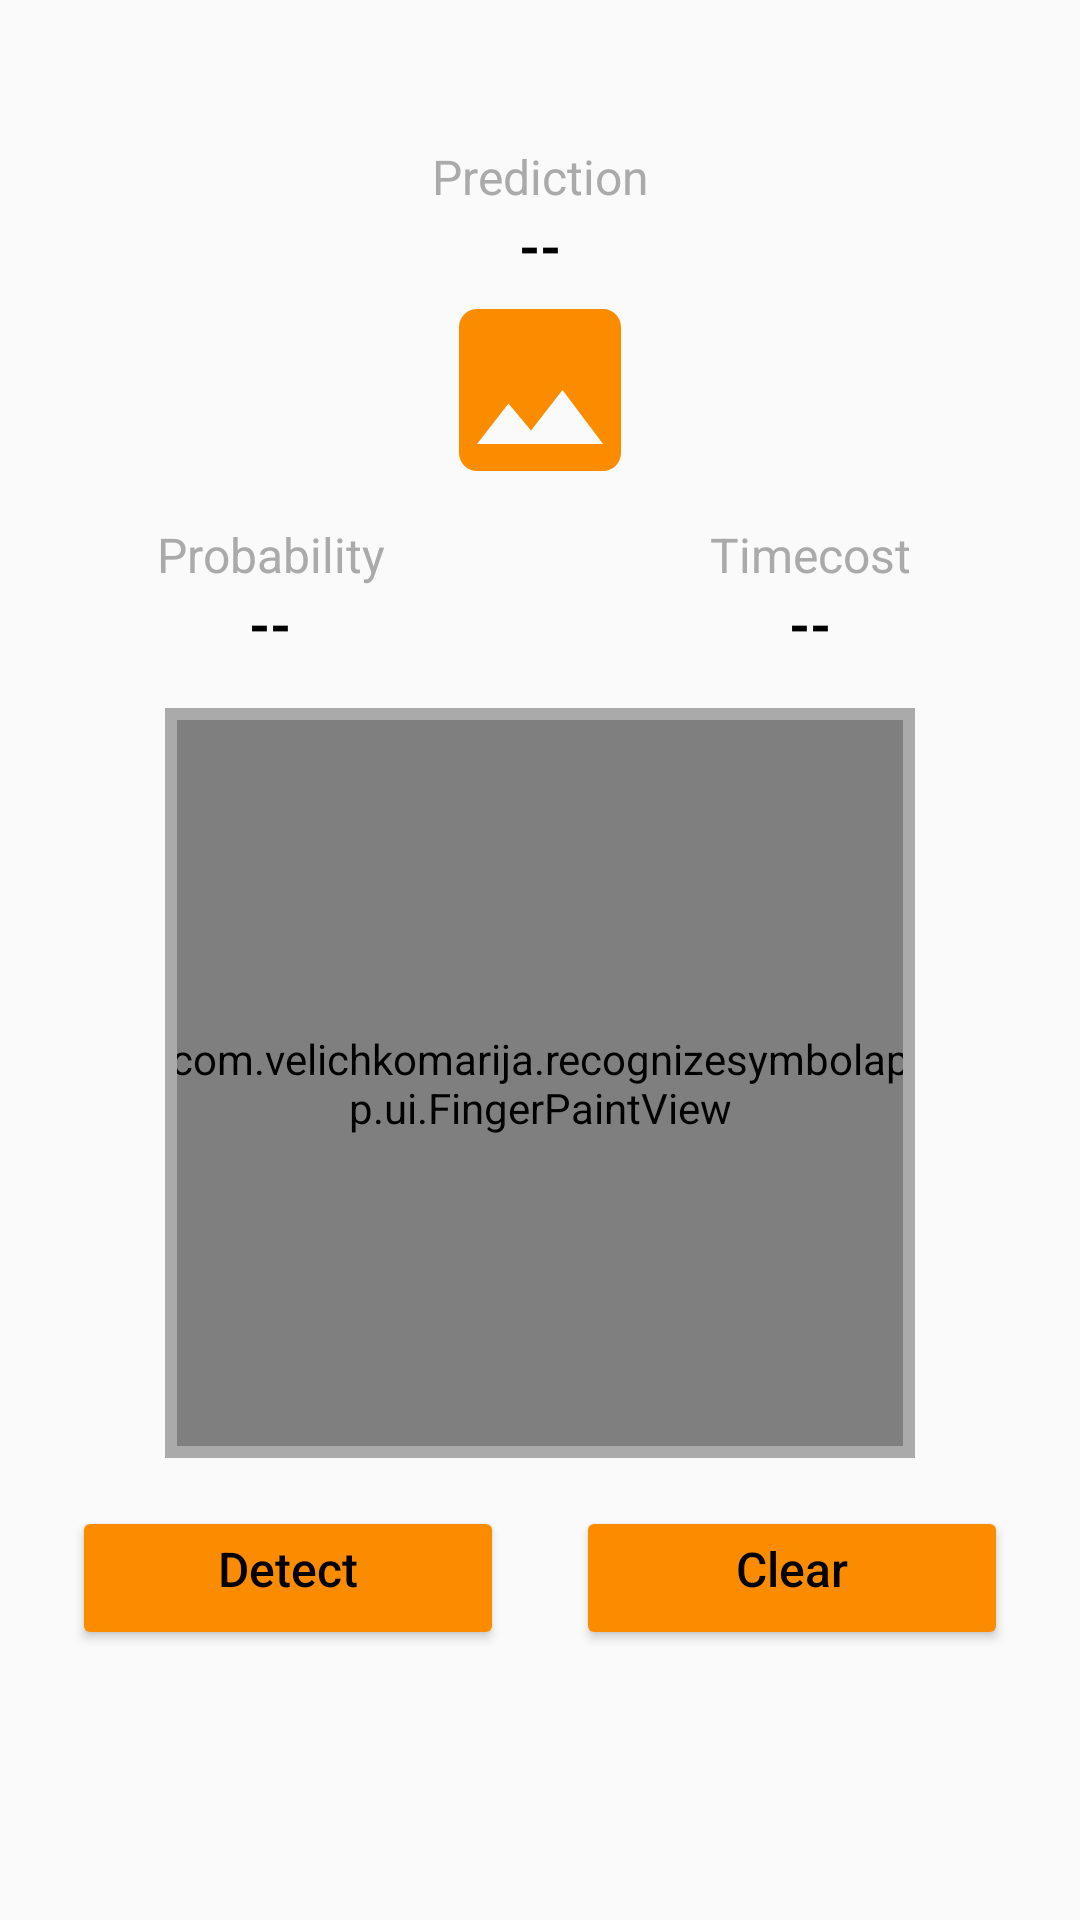

Where to tap for icons on this 1080x1920 app screen, as [x,y]:
Images: [540,390]
